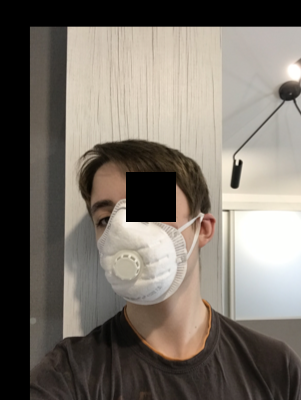with_mask: (89, 180, 190, 304)
